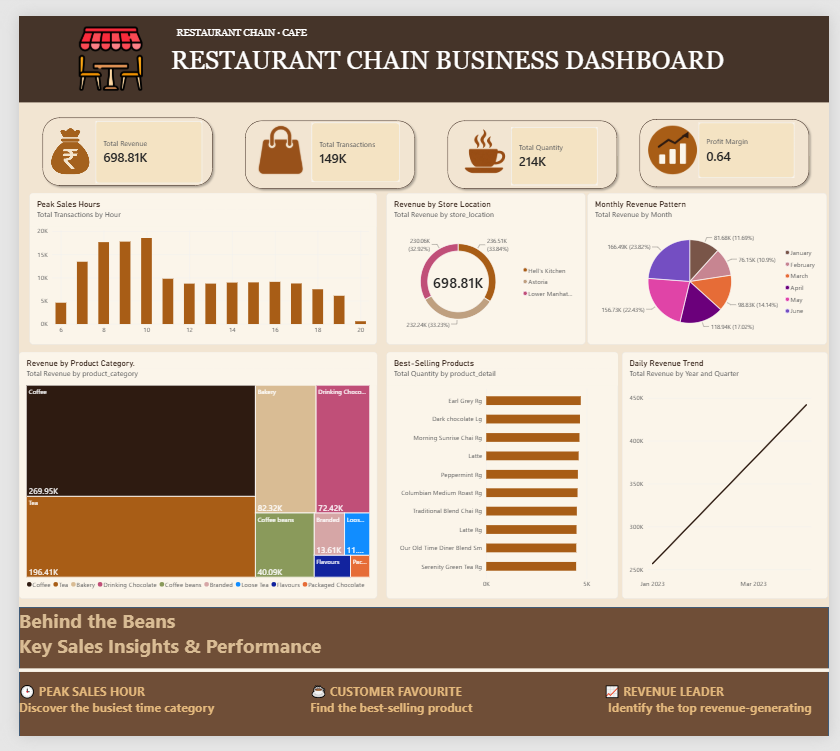

The page's visual inventory and layout, read from the dashboard file:
{"tool":"powerbi","page":{"name":"Page 1","canvas":[1800,1600],"ordinal":0},"visuals":[{"type":"shape","box":[1371.4,221.4,395,169.4],"z":0,"group":"g4"},{"type":"shape","box":[0,1312,1800,288],"z":0},{"type":"shape","box":[492.7,222.2,395,169.4],"z":1000,"group":"g1"},{"type":"shape","box":[943.6,222.2,395,169.4],"z":1000,"group":"g3"},{"type":"clusteredBarChart","title":"Best-Selling Products","fields":{"Category":["coffee-shop-sales-revenue.product_detail"],"Y":["coffee-shop-sales-revenue.Total Quantity"]},"box":[816,747.9,514.7,547.7],"z":1000},{"type":"image","box":[529.9,239.9,103,115.2],"z":2000,"group":"g1"},{"type":"clusteredColumnChart","title":"Peak Sales Hours","fields":{"Category":["coffee-shop-sales-revenue.Hour"],"Y":["coffee-shop-sales-revenue.Total Transactions"]},"box":[24.2,393.7,772.1,336.5],"z":2000},{"type":"shape","box":[41.8,215.6,395.9,169.4],"z":3000,"group":"g2"},{"type":"donutChart","title":"Revenue by Store Location","fields":{"Category":["coffee-shop-sales-revenue.store_location"],"Y":["coffee-shop-sales-revenue.Total Revenue"]},"box":[816,393.7,442.1,336.5],"z":3000},{"type":"cardVisual","title":"Total Revenue","fields":{"Data":["coffee-shop-sales-revenue.Total Revenue"]},"box":[167.8,231,237.6,138.6],"z":4000,"group":"g2"},{"type":"treemap","title":"Revenue by Product Category.","fields":{"Group":["coffee-shop-sales-revenue.product_category"],"Values":["coffee-shop-sales-revenue.Total Revenue"]},"box":[0,747.9,796.3,547.7],"z":4000},{"type":"textbox","box":[0,0,1824,192],"z":5000},{"type":"group","id":"g1","title":"Group 2","box":[492.7,222.2,395,169.4],"z":6000},{"type":"cardVisual","title":"Total Transactions","fields":{"Data":["coffee-shop-sales-revenue.Total Transactions"]},"box":[650.4,235.9,196.3,132.3],"z":6000,"group":"g1"},{"type":"group","id":"g2","title":"Group 3","box":[41.8,215.6,395.9,169.4],"z":7000},{"type":"cardVisual","title":"Total Quantity Sold","fields":{"Data":["coffee-shop-sales-revenue.Total Quantity"]},"box":[1094,244.7,192.5,129.8],"z":8000,"group":"g3"},{"type":"textbox","box":[0,1312,1800,288],"z":8000},{"type":"shape","box":[0,1416,1800,74],"z":9000},{"type":"image","box":[41.8,24.2,321.1,143],"z":10000},{"type":"lineChart","title":"Daily Revenue Trend","fields":{"Category":["coffee-shop-sales-revenue.transaction_date.Variation.Date Hierarchy.Year","coffee-shop-sales-revenue.transaction_date.Variation.Date Hierarchy.Quarter","coffee-shop-sales-revenue.transaction_date.Variation.Date Hierarchy.Month","coffee-shop-sales-revenue.transaction_date.Variation.Date Hierarchy.Day"],"Y":["coffee-shop-sales-revenue.Total Revenue"]},"box":[1339.6,747.9,457.5,547.7],"z":11000},{"type":"cardVisual","title":"Estimated Profit Margin","fields":{"Data":["coffee-shop-sales-revenue.Margin %"]},"box":[1512.7,237.8,213.4,123.2],"z":12000,"group":"g4"},{"type":"pieChart","title":"Monthly Revenue Pattern","fields":{"Category":["coffee-shop-sales-revenue.transaction_date.Variation.Date Hierarchy.Month"],"Y":["coffee-shop-sales-revenue.Total Revenue"]},"box":[1264.8,393.7,532.3,336.5],"z":12000},{"type":"group","id":"g3","title":"Group 1","box":[943.6,222.2,395,169.4],"z":13000},{"type":"image","box":[59.8,246.4,108,107.8],"z":13000,"group":"g2"},{"type":"group","id":"g4","title":"Group 4","box":[1371.4,221.4,395,169.4],"z":14000},{"type":"image","box":[950.8,230.8,166.7,133.3],"z":14000,"group":"g3"},{"type":"image","box":[1375.1,240.8,157.6,115.2],"z":15000,"group":"g4"}]}

Visuals, with their boxes in screenshot pixels (x1, y1, x2, y2), scaled from the page's 1800x1600 canvas onto the 840x751 screenshot:
shape: box=[640, 104, 824, 183]
shape: box=[0, 616, 839, 750]
shape: box=[230, 104, 414, 184]
shape: box=[440, 104, 625, 184]
"Best-Selling Products" clusteredBarChart: box=[381, 351, 621, 608]
image: box=[247, 113, 295, 167]
"Peak Sales Hours" clusteredColumnChart: box=[11, 185, 372, 343]
shape: box=[20, 101, 204, 181]
"Revenue by Store Location" donutChart: box=[381, 185, 587, 343]
"Total Revenue" cardVisual: box=[78, 108, 189, 173]
"Revenue by Product Category." treemap: box=[0, 351, 372, 608]
textbox: box=[0, 0, 839, 90]
"Group 2" group: box=[230, 104, 414, 184]
"Total Transactions" cardVisual: box=[304, 111, 395, 173]
"Group 3" group: box=[20, 101, 204, 181]
"Total Quantity Sold" cardVisual: box=[511, 115, 600, 176]
textbox: box=[0, 616, 839, 750]
shape: box=[0, 665, 839, 699]
image: box=[20, 11, 169, 78]
"Daily Revenue Trend" lineChart: box=[625, 351, 839, 608]
"Estimated Profit Margin" cardVisual: box=[706, 112, 806, 169]
"Monthly Revenue Pattern" pieChart: box=[590, 185, 839, 343]
"Group 1" group: box=[440, 104, 625, 184]
image: box=[28, 116, 78, 166]
"Group 4" group: box=[640, 104, 824, 183]
image: box=[444, 108, 522, 171]
image: box=[642, 113, 715, 167]
